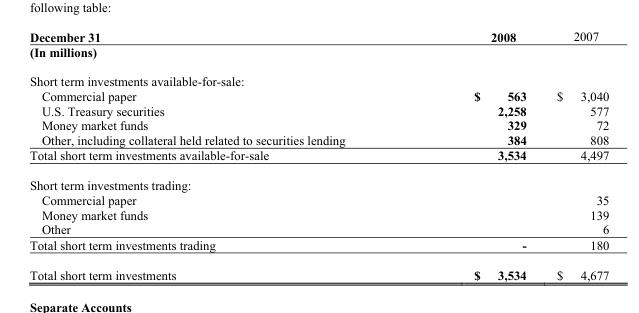table: (28, 29, 608, 281)
table column: (28, 29, 408, 281), (408, 29, 540, 281), (540, 29, 608, 281)
table column header: (28, 29, 608, 44)
table projected row header: (28, 44, 608, 66), (28, 66, 608, 88), (28, 170, 608, 192)
table row: (28, 147, 608, 170), (28, 236, 608, 259), (28, 44, 608, 66), (28, 66, 608, 88), (28, 170, 608, 192), (28, 259, 608, 281), (28, 29, 608, 44), (28, 88, 608, 103), (28, 117, 608, 132), (28, 132, 608, 147), (28, 192, 608, 207), (28, 221, 608, 236), (28, 103, 608, 117), (28, 207, 608, 221)
